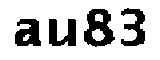3: (119, 8, 148, 46)
8: (83, 8, 116, 47)
a: (9, 13, 44, 50)
u: (48, 14, 80, 49)
